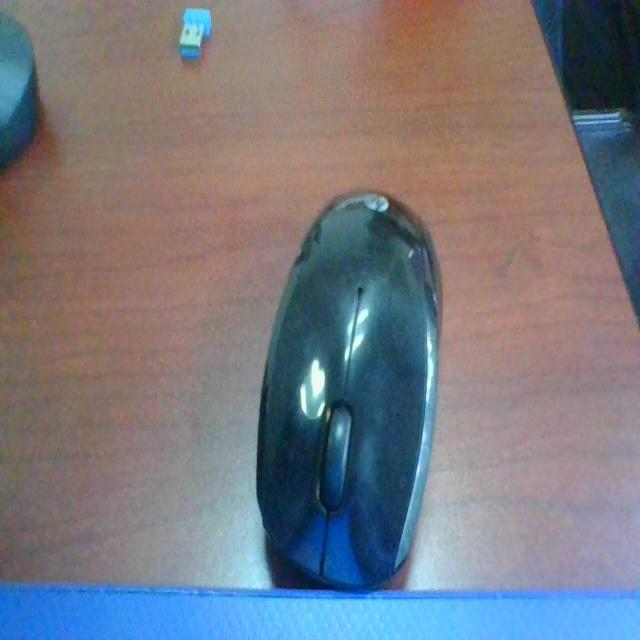mouse: (243, 170, 472, 622)
